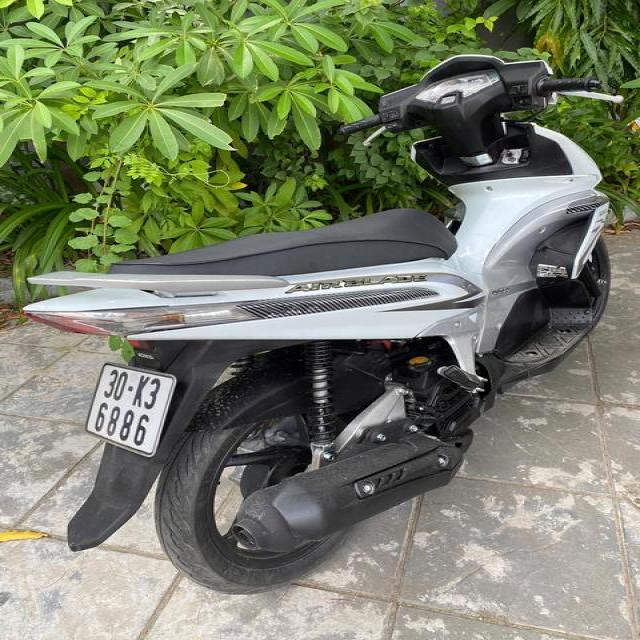motorcycle: (20, 45, 633, 600)
plate: (81, 358, 178, 458)
